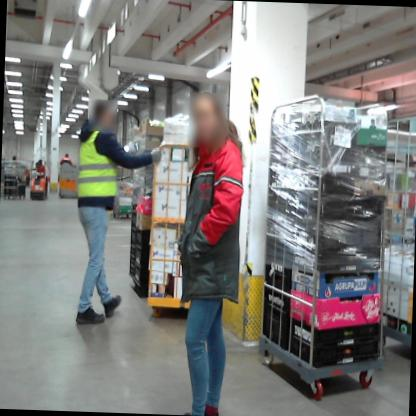pallet_truck: (25, 161, 52, 201)
